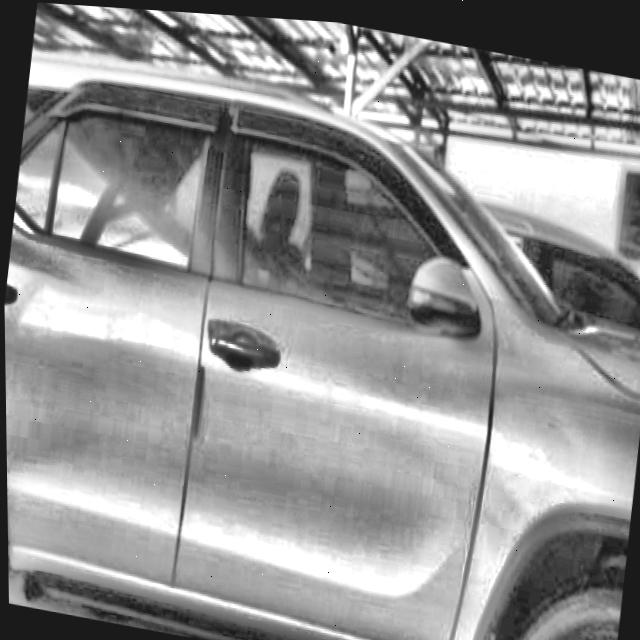light_vehicle: (0, 34, 640, 640)
